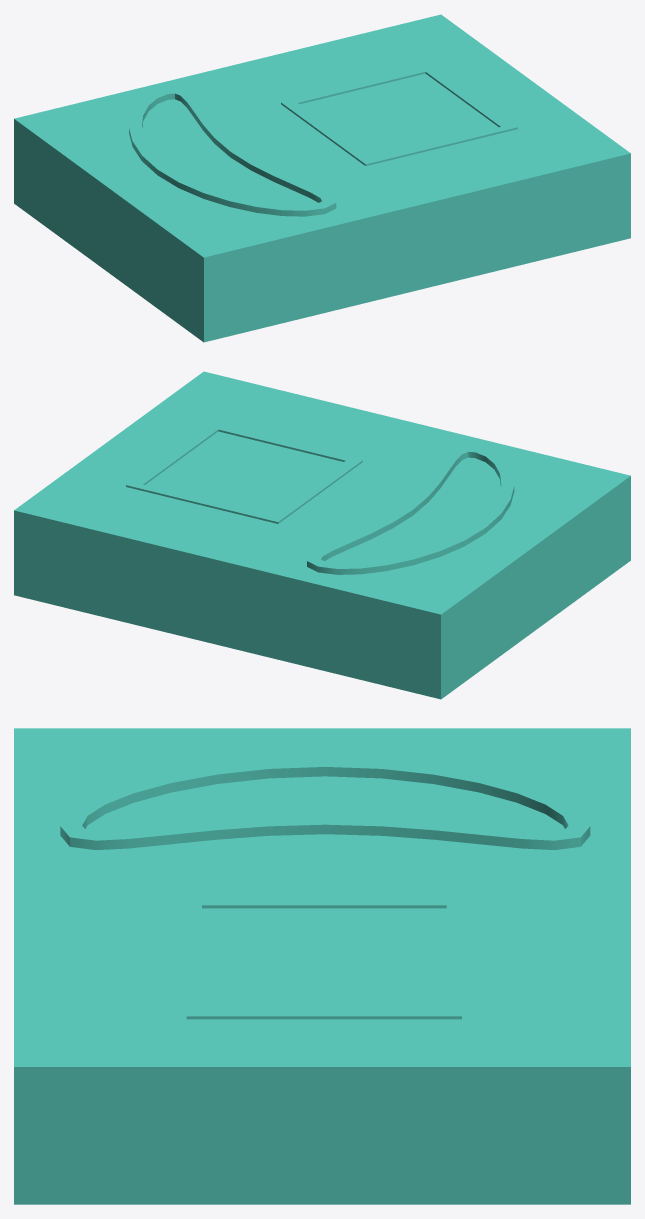
The model's file is SM_Milliammeter.fbx.
3 views of the same model, one above another, from view 1: azimuth 30°, elevation 25°; view 2: azimuth 150°, elevation 25°; view 3: azimuth 270°, elevation 25° (orthographic). The views are drawn at different scales.
Visible parts, largest first — view 1: invention_004; view 2: invention_004; view 3: invention_004.
Part boxes in pixels (left/top/right/bottom): invention_004: left=14, top=14, right=630, bottom=342; invention_004: left=14, top=371, right=630, bottom=699; invention_004: left=14, top=728, right=630, bottom=1204.
Size of the model in its own units: 52.67 by 10.69 by 40.55.
